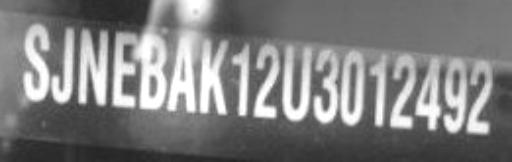letter: (76, 23, 112, 108), (166, 33, 200, 118), (196, 35, 230, 118), (280, 42, 314, 123), (464, 56, 496, 139), (20, 19, 50, 104), (138, 31, 168, 114), (388, 50, 418, 131), (440, 54, 468, 137), (412, 56, 442, 133), (252, 41, 280, 122), (340, 46, 368, 127), (48, 25, 76, 104), (312, 46, 340, 125), (110, 27, 136, 110), (230, 39, 252, 120), (366, 52, 388, 131)
